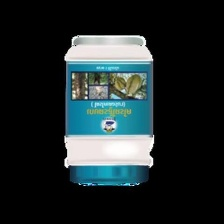insecticide: (61, 30, 158, 190)
